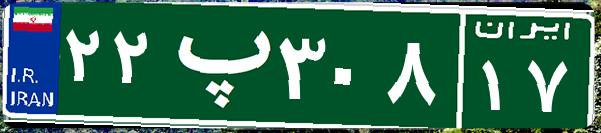0: (330, 28, 385, 110)
1: (475, 38, 525, 113)
2: (57, 26, 110, 107), (110, 28, 158, 105)
3: (273, 28, 330, 110)
7: (525, 38, 570, 115)
8: (385, 28, 445, 110)
پ: (158, 15, 273, 115)
